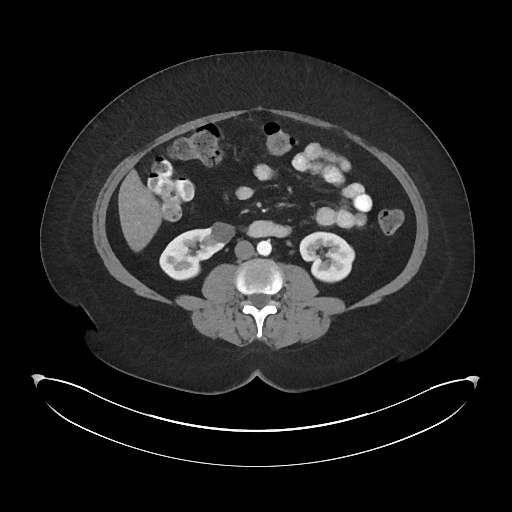Lesion: (208, 218, 238, 245)
